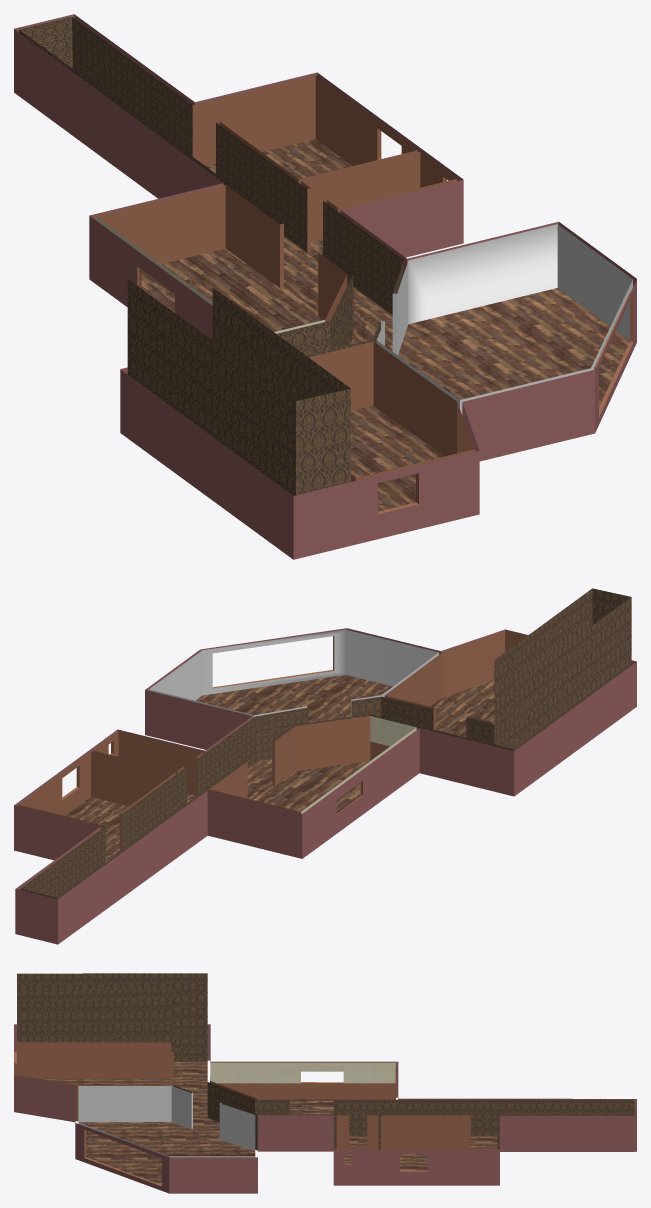
The model's file is house2.fbx.
3 views of the same model, one above another, from view 1: azimuth 30°, elevation 25°; view 2: azimuth 150°, elevation 25°; view 3: azimuth 270°, elevation 25° (orthographic). The views are drawn at different scales.
Visible parts, largest first — view 1: polySurface1; view 2: polySurface1; view 3: polySurface1.
Boxes of the visible parts, left/top/right/bottom form: polySurface1: left=14, top=14, right=636, bottom=559; polySurface1: left=14, top=588, right=636, bottom=944; polySurface1: left=14, top=973, right=636, bottom=1193.
Bounding box in the file's own units: 716 × 222 × 1417.
6 materials, 3 textured.
